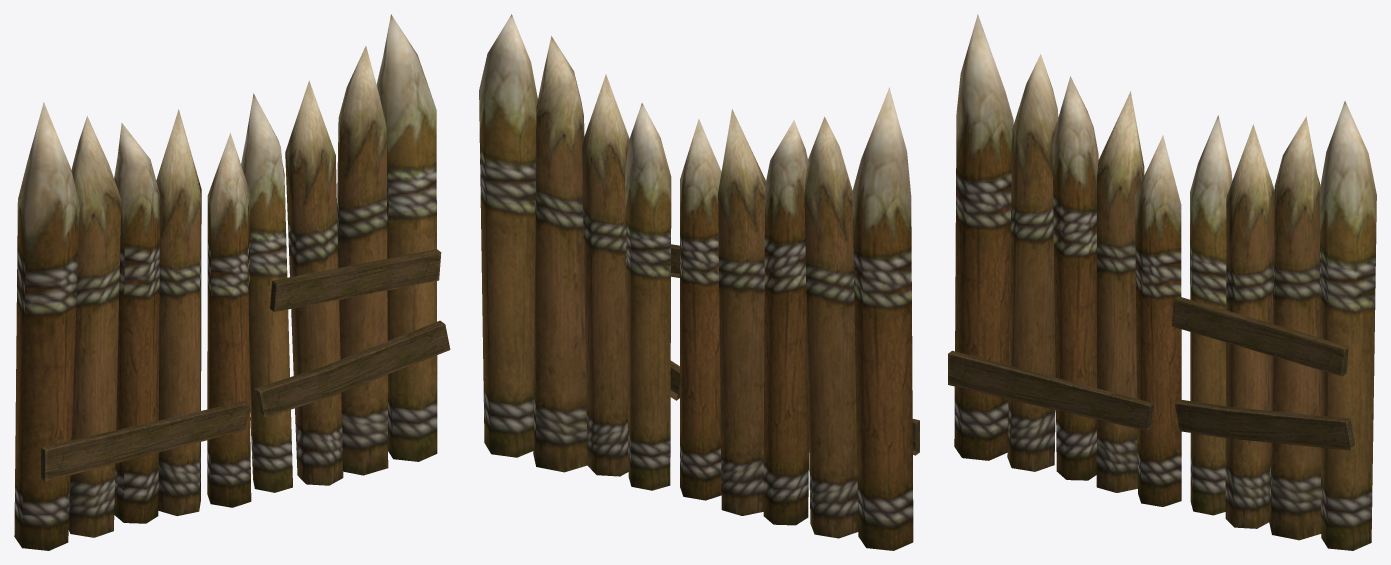
File: SV_AFT_forest_zhalan_2.FBX
The picture shows the model from 3 angles, left to right: view 1: azimuth 30°, elevation 25°; view 2: azimuth 150°, elevation 25°; view 3: azimuth 330°, elevation 25°; orthographic projection. The views are drawn at different scales.
Visible parts, largest first — view 1: SV_AFT_forest_zhalan_2; view 2: SV_AFT_forest_zhalan_2; view 3: SV_AFT_forest_zhalan_2.
Part boxes in pixels (box(x1,y1,x2,y2)): SV_AFT_forest_zhalan_2: box(14, 14, 450, 550); SV_AFT_forest_zhalan_2: box(479, 14, 919, 550); SV_AFT_forest_zhalan_2: box(948, 14, 1376, 550).
Size of the model in its own units: 4.54 by 4.6 by 0.6975.
